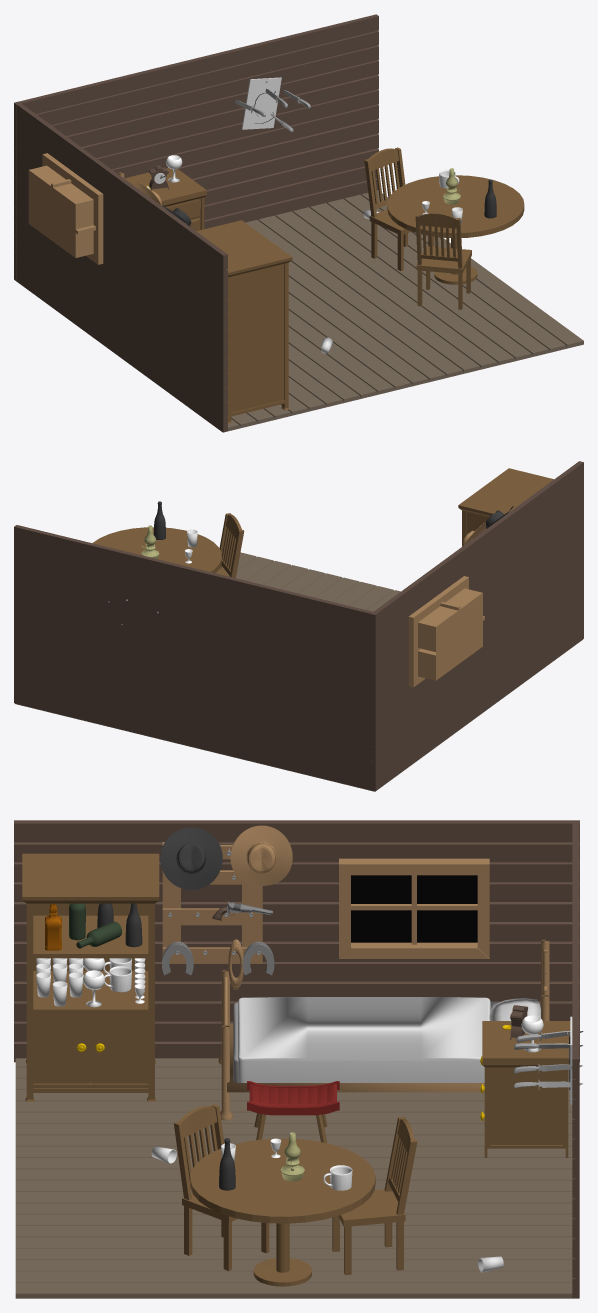
Rendered from wild_western_room_college_assignment.glb.
3 views of the same model, one above another, from view 1: azimuth 30°, elevation 25°; view 2: azimuth 150°, elevation 25°; view 3: azimuth 270°, elevation 25° (orthographic). The views are drawn at different scales.
Visible parts, largest first — view 1: wall1_51, floor_49, wall2_52, big closet_53, window_60, Cylinder_56, chair_57, chair.002_58, drawer_68, poster_59; view 2: wall1_51, wall2_52, window_60, floor_49, big closet_53, Cylinder_56, chair_57; view 3: floor_49, wall2_52, big closet_53, bed.004_66, Cylinder_56, drawer_68, window_60, window.001_63, pellet_54, chair.002_58, chair_57, wall1_51 (+11 smaller).
Part boxes in pixels (x1,y1,x2,y2): wall1_51: [14, 14, 378, 281]; floor_49: [16, 190, 583, 432]; wall2_52: [14, 101, 227, 432]; big closet_53: [196, 220, 292, 423]; window_60: [28, 153, 103, 264]; Cylinder_56: [387, 175, 524, 284]; chair_57: [415, 213, 471, 309]; chair.002_58: [364, 147, 434, 270]; drawer_68: [124, 167, 206, 231]; poster_59: [241, 77, 281, 129]; wall1_51: [14, 525, 378, 790]; wall2_52: [370, 461, 583, 791]; window_60: [408, 576, 484, 687]; floor_49: [15, 552, 582, 791]; big closet_53: [458, 468, 553, 546]; Cylinder_56: [92, 527, 221, 573]; chair_57: [216, 513, 244, 578]; floor_49: [15, 1058, 578, 1298]; wall2_52: [14, 820, 579, 1062]; big closet_53: [22, 853, 159, 1101]; bed.004_66: [238, 997, 540, 1082]; Cylinder_56: [190, 1138, 375, 1286]; drawer_68: [482, 1021, 570, 1157]; window_60: [339, 858, 489, 958]; window.001_63: [351, 875, 477, 942]; pellet_54: [162, 842, 262, 963]; chair.002_58: [332, 1116, 417, 1275]; chair_57: [173, 1104, 269, 1271]; wall1_51: [572, 820, 579, 1298].
Size of the model in its own units: 22.63 by 9.34 by 19.94.
